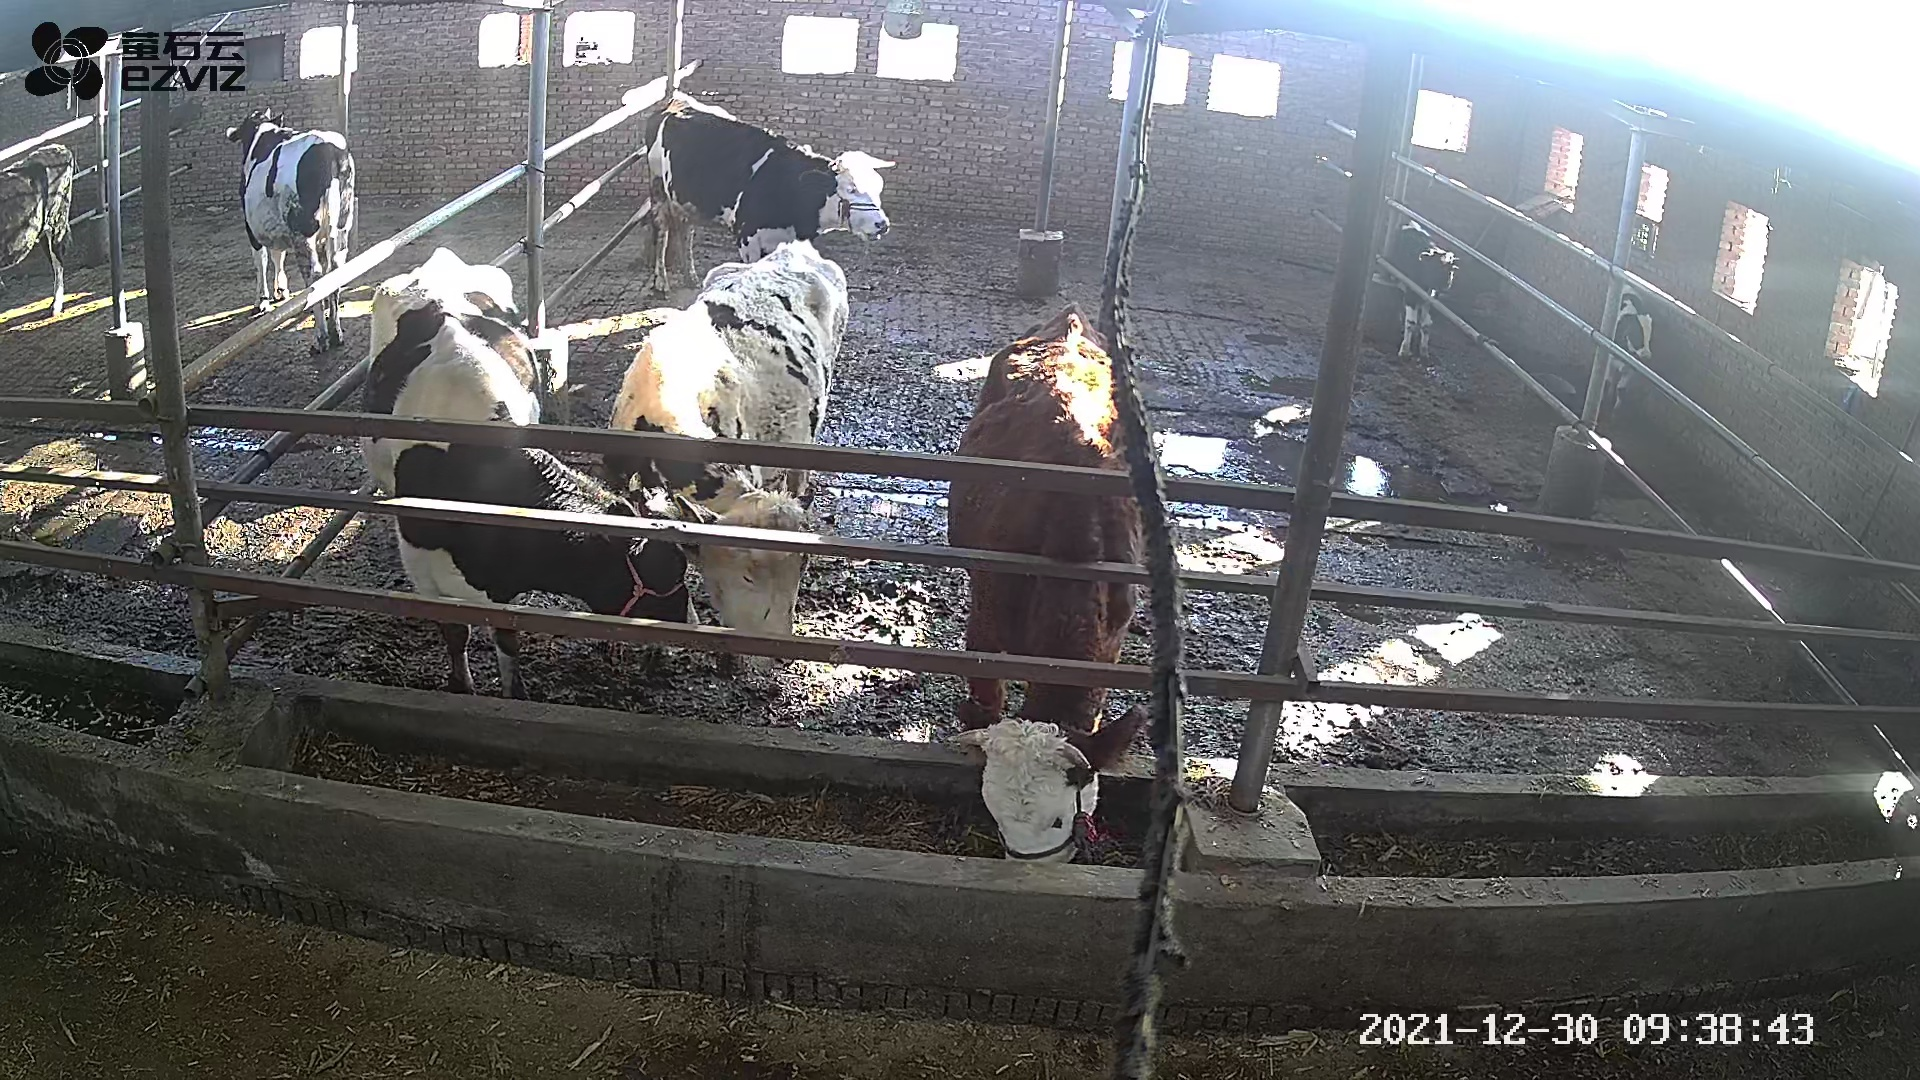cow: (353, 247, 703, 700), (944, 298, 1145, 866), (609, 237, 851, 678), (642, 87, 895, 298)
